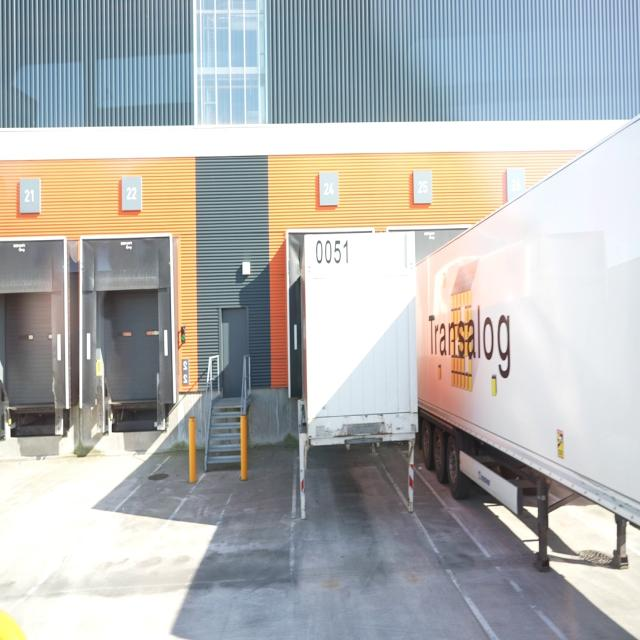Code: (310, 234, 356, 272)
